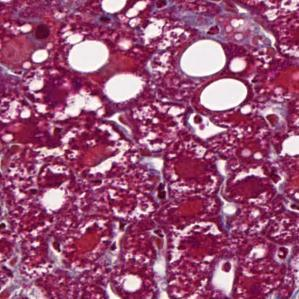steatosis: (196, 79, 252, 115), (179, 40, 228, 78), (67, 39, 111, 74)
